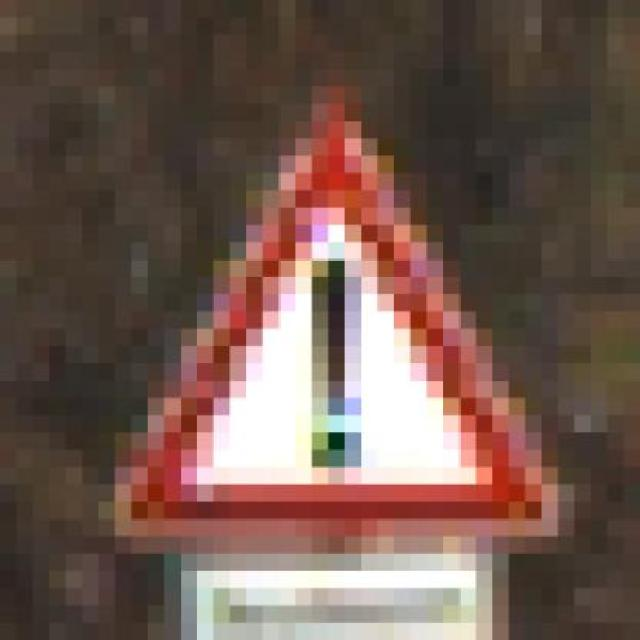Attention Please-: (82, 103, 575, 554)
